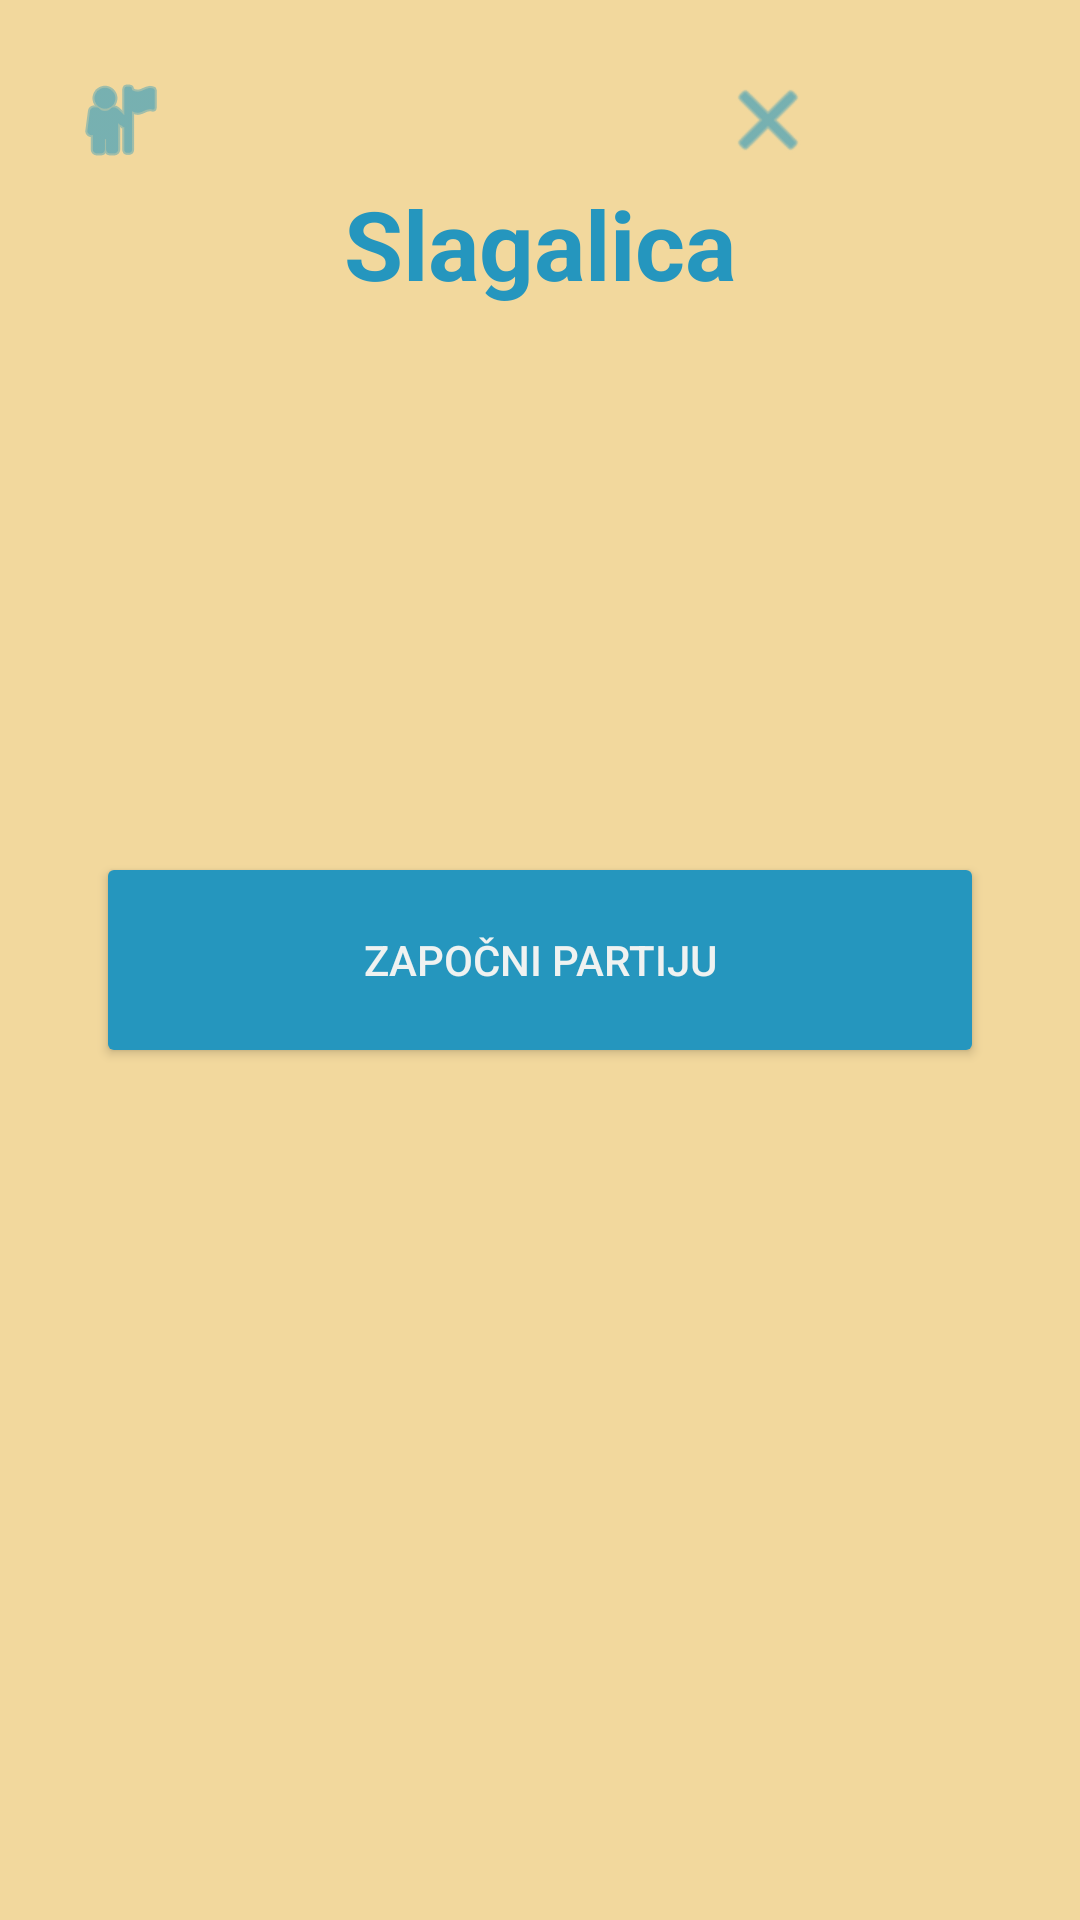

Locate icon controls on the screen. Image size 1080px×1920px, boxes as (x1, y1, x2, y2).
Profil: (85, 84, 157, 156)
